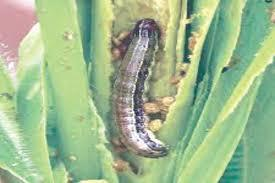fallarmy_worm: (110, 16, 175, 164)
